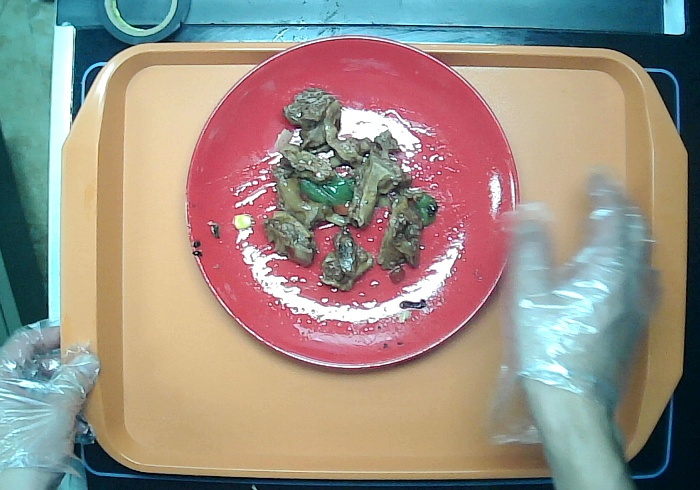HZYJPL-Hong_Se_Yuan_Pan: (180, 35, 521, 370)
